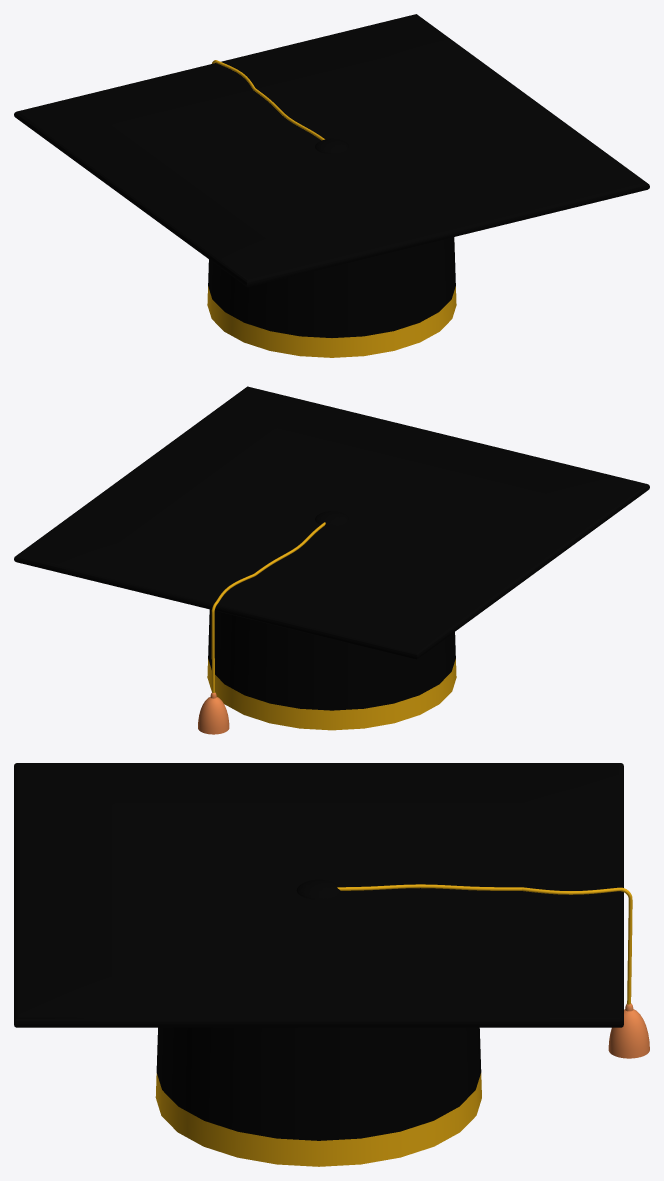
Rendered from GraduationCap.fbx.
3 renders of one model, top to bottom at view 1: azimuth 30°, elevation 25°; view 2: azimuth 150°, elevation 25°; view 3: azimuth 270°, elevation 25°, orthographic. The views are drawn at different scales.
Visible parts, largest first — view 1: Cube; view 2: Cube, Sphere.001, Cube.001; view 3: Cube, Cube.001, Sphere.001, Sphere.
Boxes of the visible parts, <box> form: Cube: <box>14,14,649,357</box>; Cube: <box>14,386,649,730</box>; Sphere.001: <box>198,692,229,734</box>; Cube.001: <box>211,522,325,692</box>; Cube: <box>14,763,623,1166</box>; Cube.001: <box>337,884,632,1004</box>; Sphere.001: <box>608,1003,649,1058</box>; Sphere: <box>296,879,340,899</box>.
Size of the model in its own units: 562 by 217 by 586.
